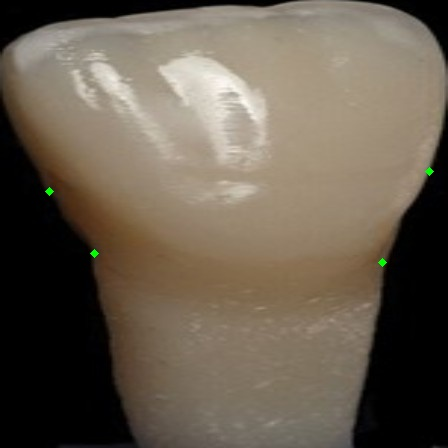coin_1: (382, 262, 402, 282)
coin_2: (429, 171, 448, 191)
coin_3: (94, 253, 114, 273)
coin_4: (49, 191, 69, 211)
